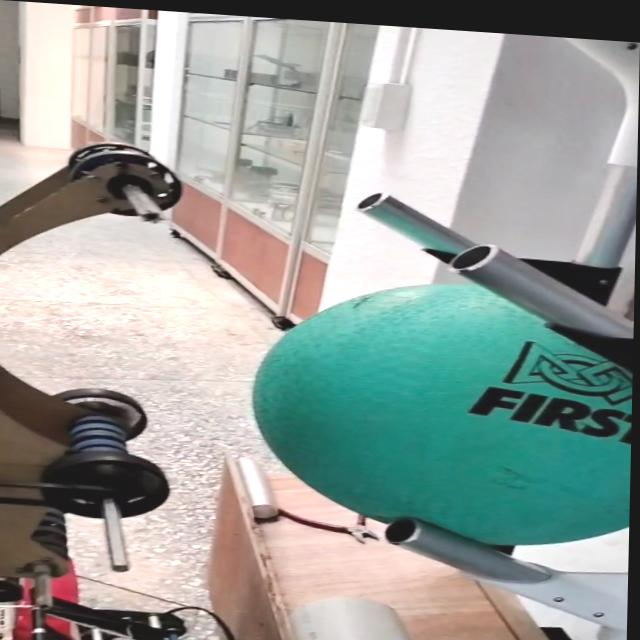ALGAE: (247, 261, 635, 553)
CORAL: (288, 582, 430, 640)
